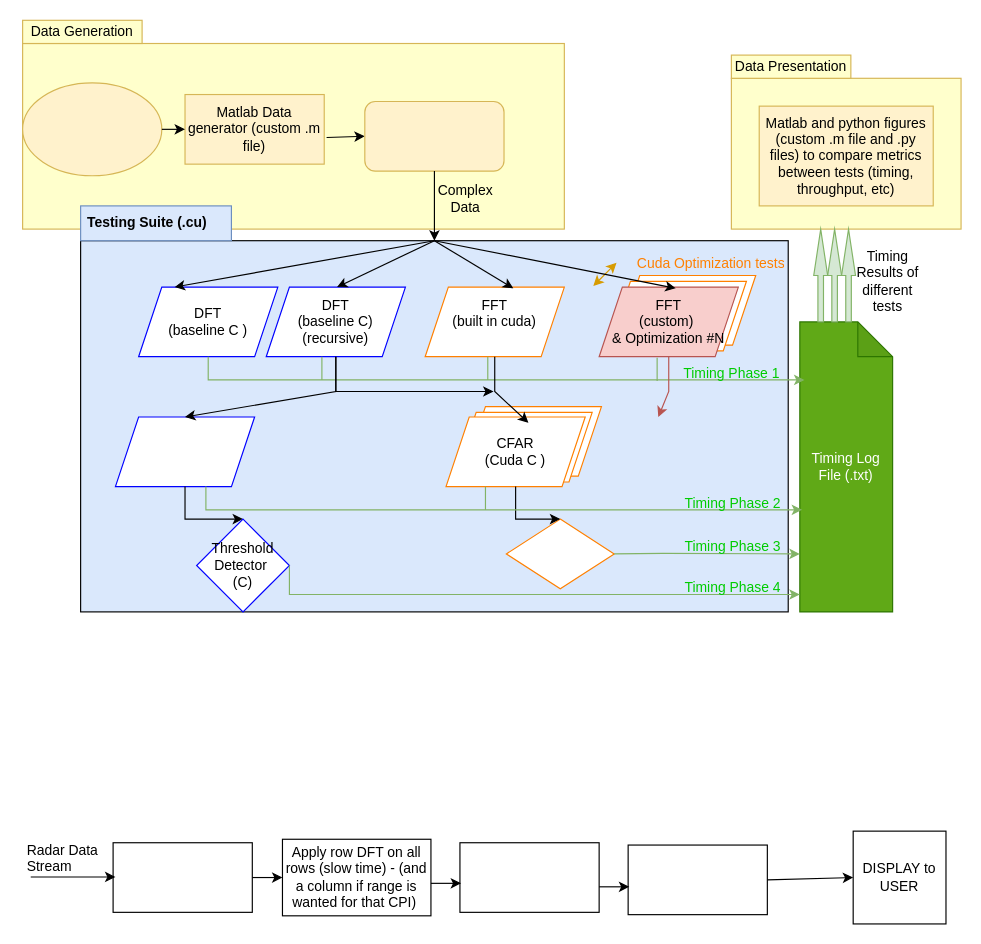
Image size: 981x944. Some labels were removed from this diagram. Here are the shapes that lost their labels. From the top down, the centre of each, then its label:
point 91,129: BEGIN
point 434,135: CSVs
point 184,451: CFAR (C )
point 559,553: Threshold Detector (cuda C)
point 182,877: 2-Dimensional Complex Data Array
point 529,877: Apply CFAR Algorithm to Data
point 697,879: Apply Threshold Detection to Data
